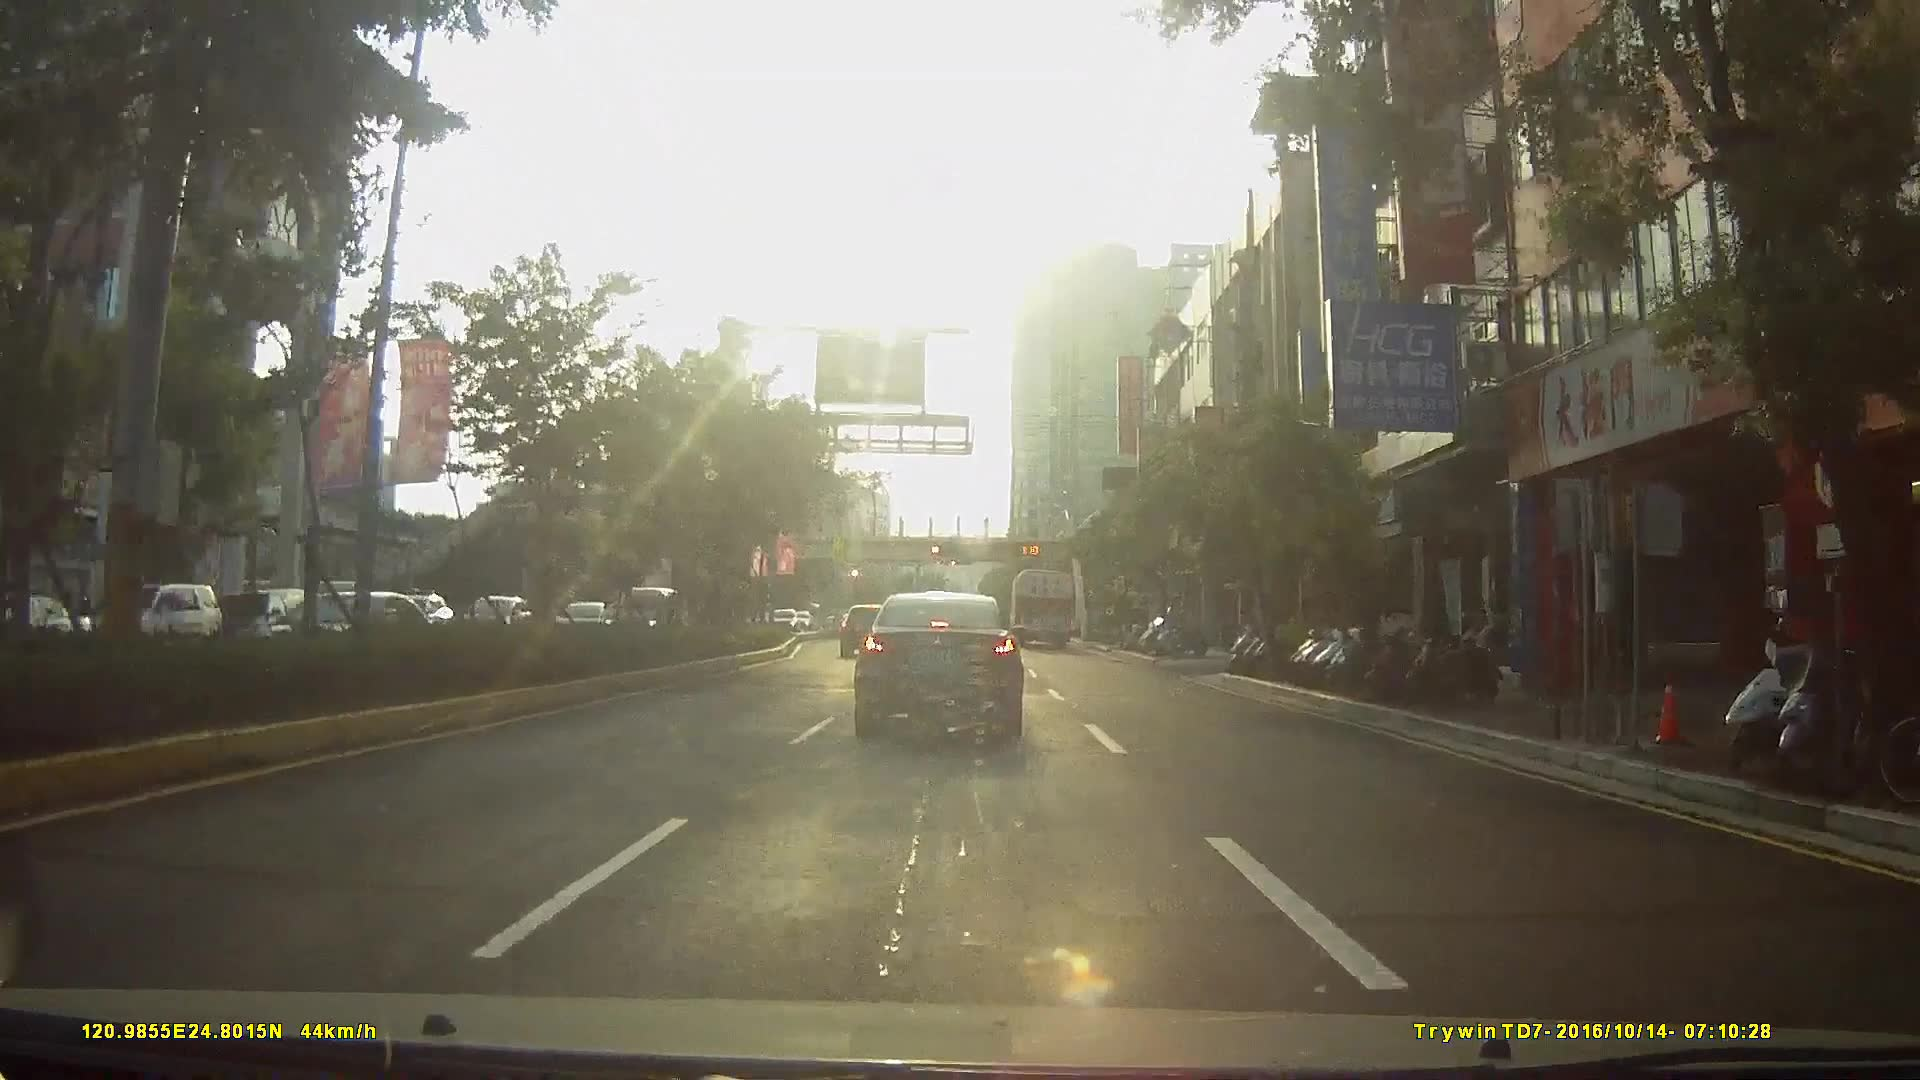vehicle: (852, 593, 1025, 744), (80, 582, 214, 655), (204, 588, 319, 653), (1007, 568, 1079, 651), (611, 585, 702, 644), (837, 604, 893, 658)
